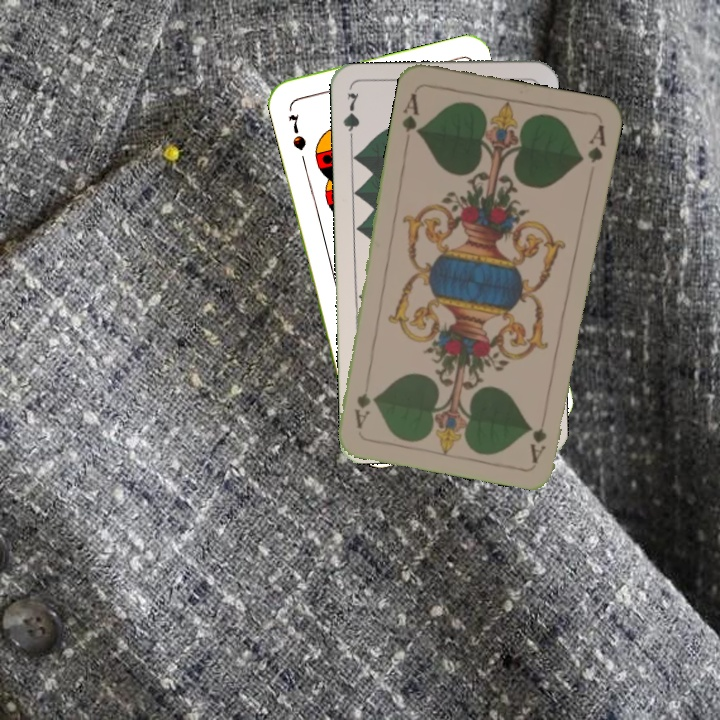G7: (339, 88, 362, 147)
GA: (526, 406, 550, 465), (398, 89, 424, 138)
S7: (284, 110, 309, 153)
